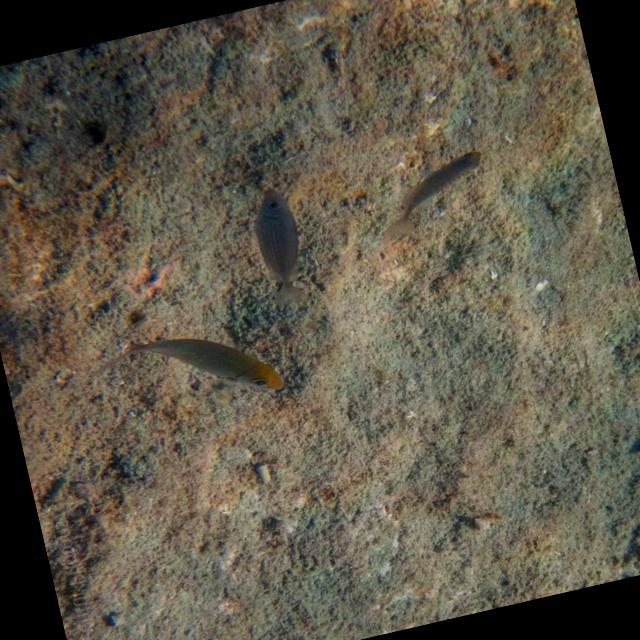Sokar Baligi: (92, 302, 292, 436), (357, 127, 516, 249), (238, 175, 334, 318)
